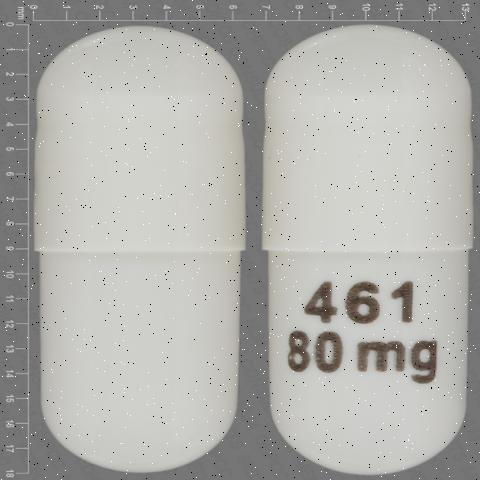Pill: (15, 13, 253, 469), (257, 9, 480, 480)
